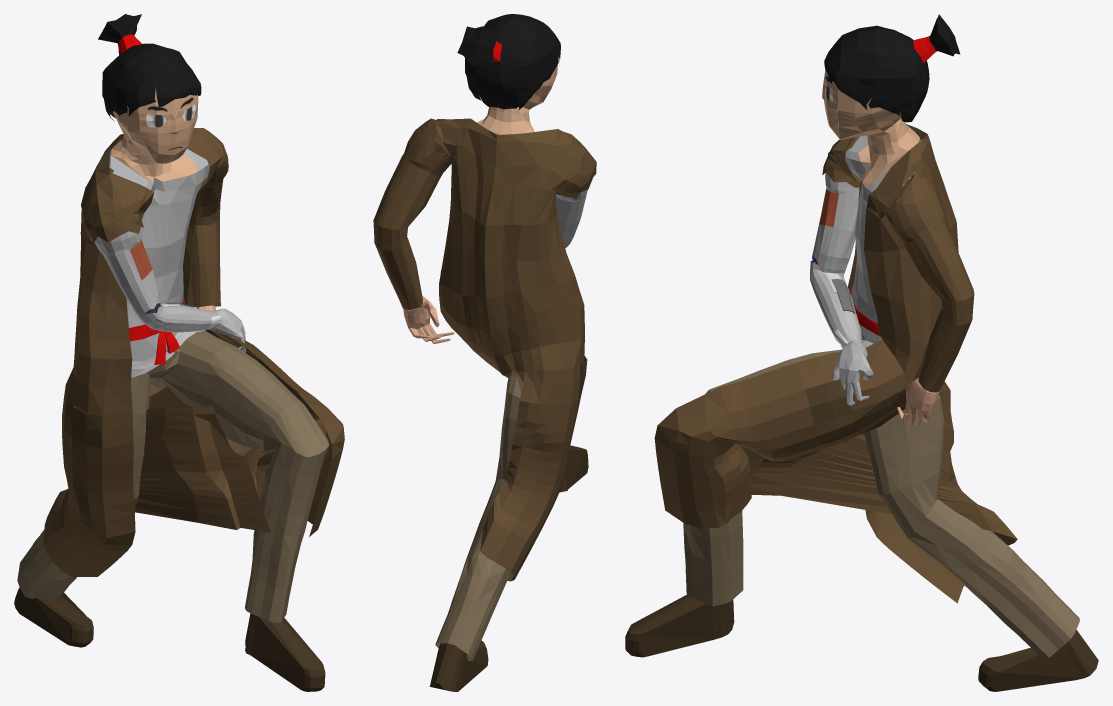
The model's file is One_RB_000014.obj.
3 renders of one model, left to right at view 1: azimuth 30°, elevation 25°; view 2: azimuth 150°, elevation 25°; view 3: azimuth 270°, elevation 25°, orthographic. The views are drawn at different scales.
Parts seen in each view (by area): view 1: Hair_Cube.004; view 2: Hair_Cube.004; view 3: Hair_Cube.004.
Part boxes in pixels (x1,y1,x2,y2): Hair_Cube.004: (14,14,344,691); Hair_Cube.004: (373,14,596,691); Hair_Cube.004: (625,14,1098,691).
Bounding box in the file's own units: 1.07 × 3.61 × 2.28.
